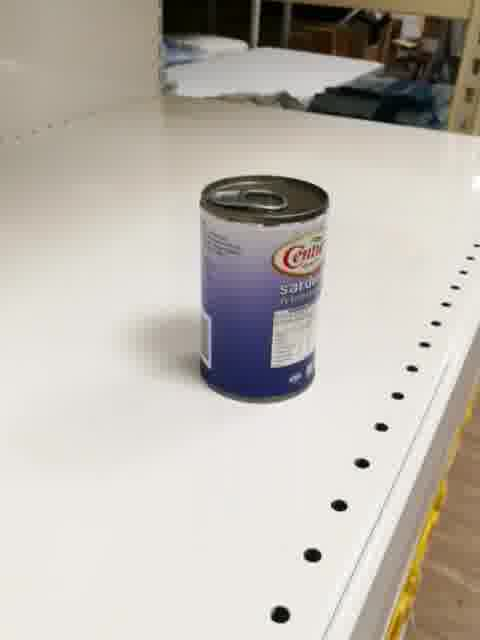sardine: (199, 172, 331, 406)
